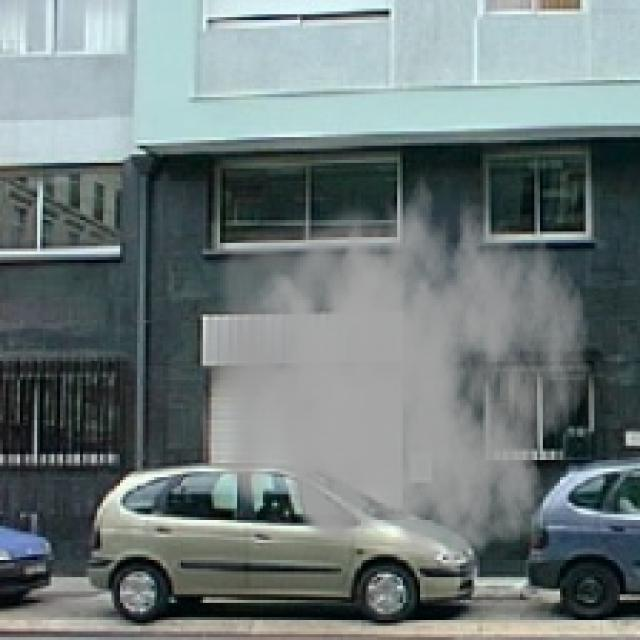Smoke: (197, 155, 592, 580)
